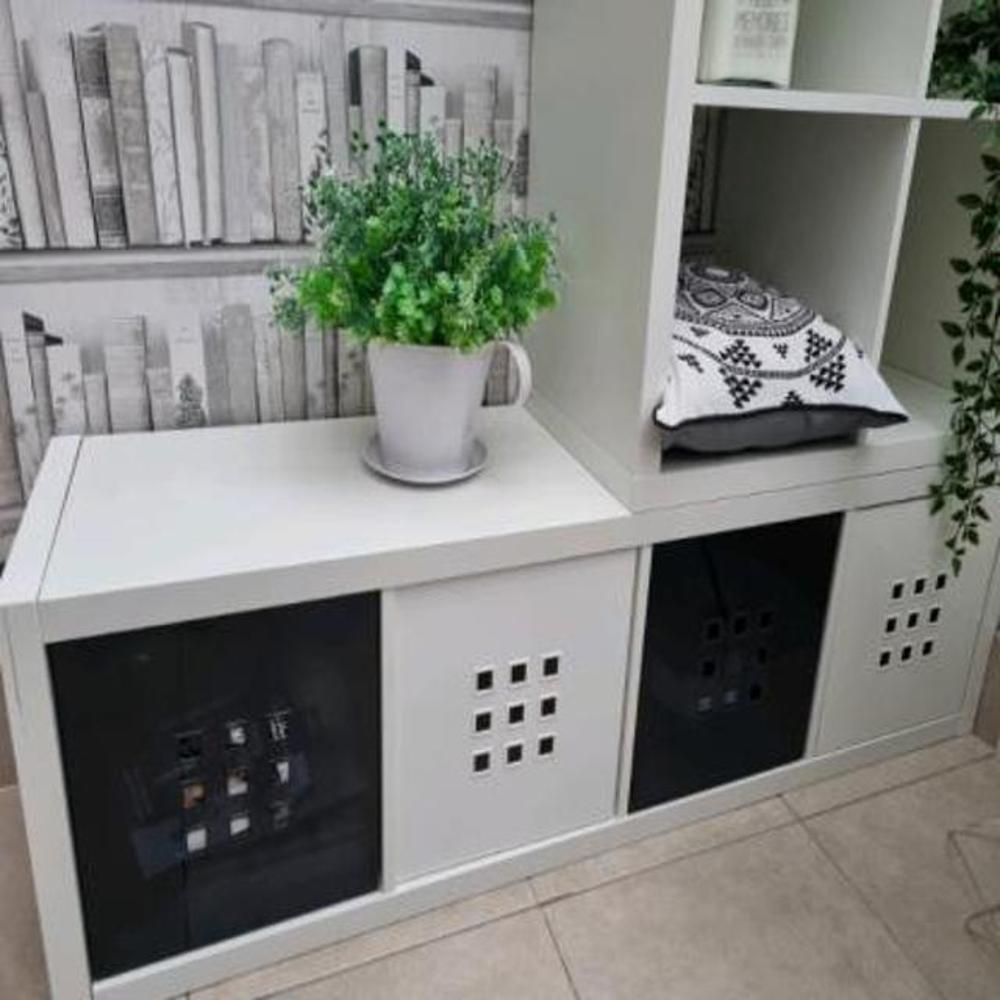lamp: (504, 0, 999, 844), (1, 396, 634, 998)
